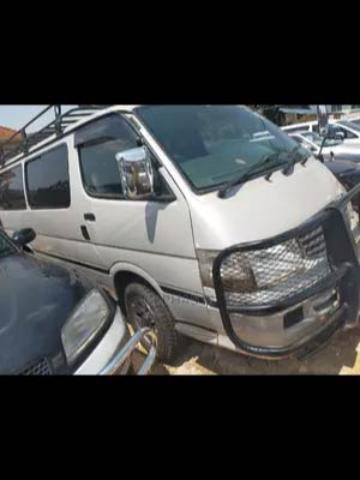van: (0, 105, 357, 346)
